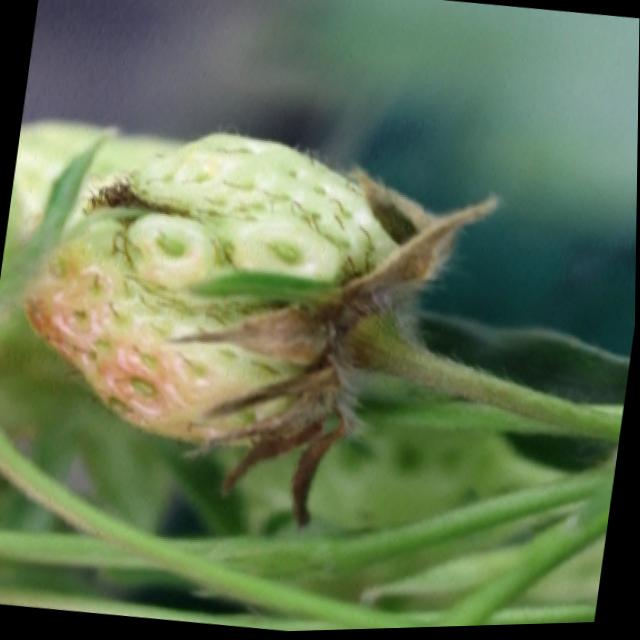Gray Mold: (163, 165, 503, 530)
